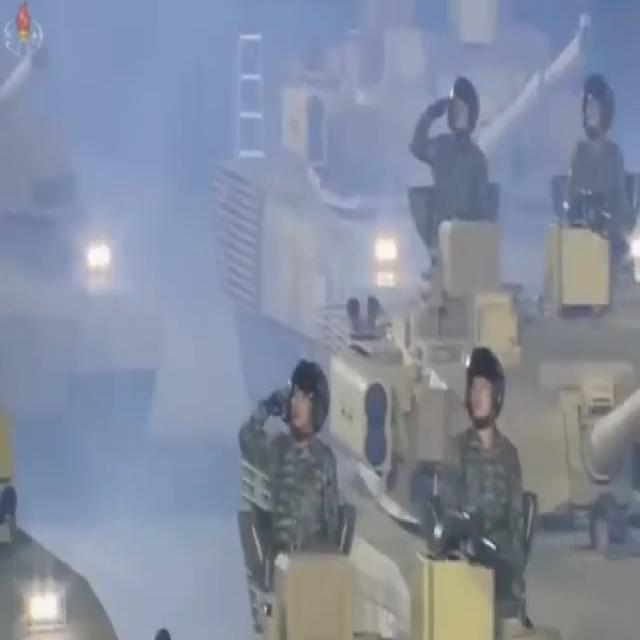north tank: (313, 194, 640, 640), (218, 0, 608, 364)
